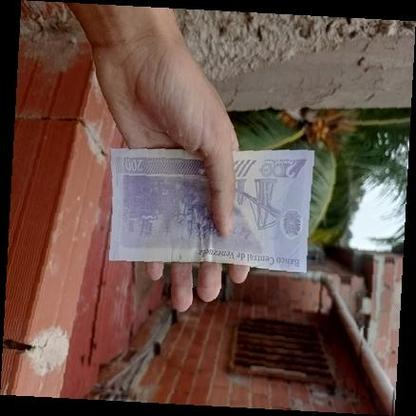two_hundred-back-vef: (107, 146, 314, 274)
